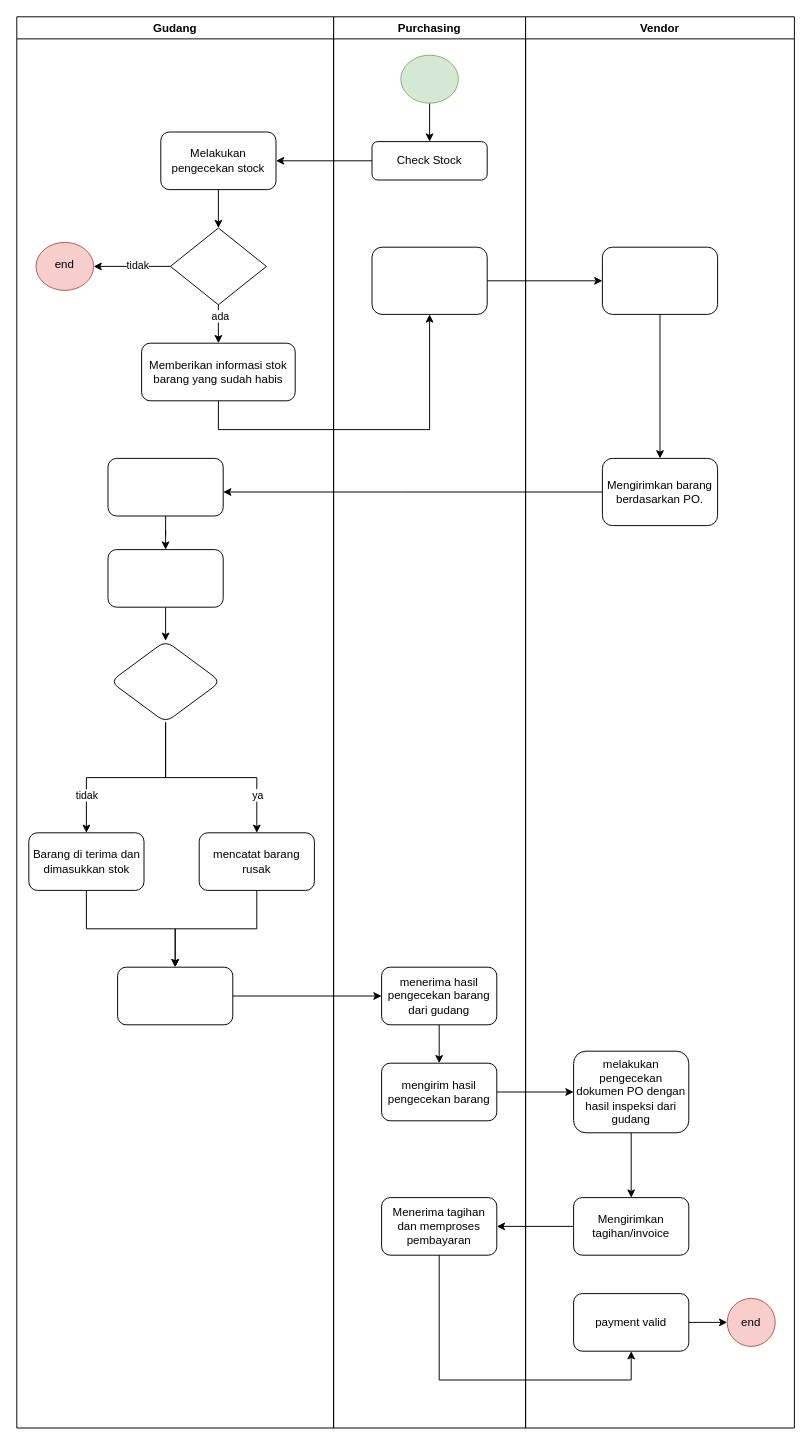
Image size: 811x1445. Some labels were removed from this diagram. The centre of each missing label's shape, as x and y in pixels:
ada kerusakan?: pixel 165 681
ada stok barang habis?: pixel 217 266
memberikan hasil pengecekan barang dari vendor: pixel 175 995
Membuat dan mengirimkan Purchase Order (PO): pixel 429 280
Menerima barang: pixel 165 486
Menerma Purchase Order (PO): pixel 659 280
Mengecek barang dari vendor: pixel 165 578
start: pixel 429 78
